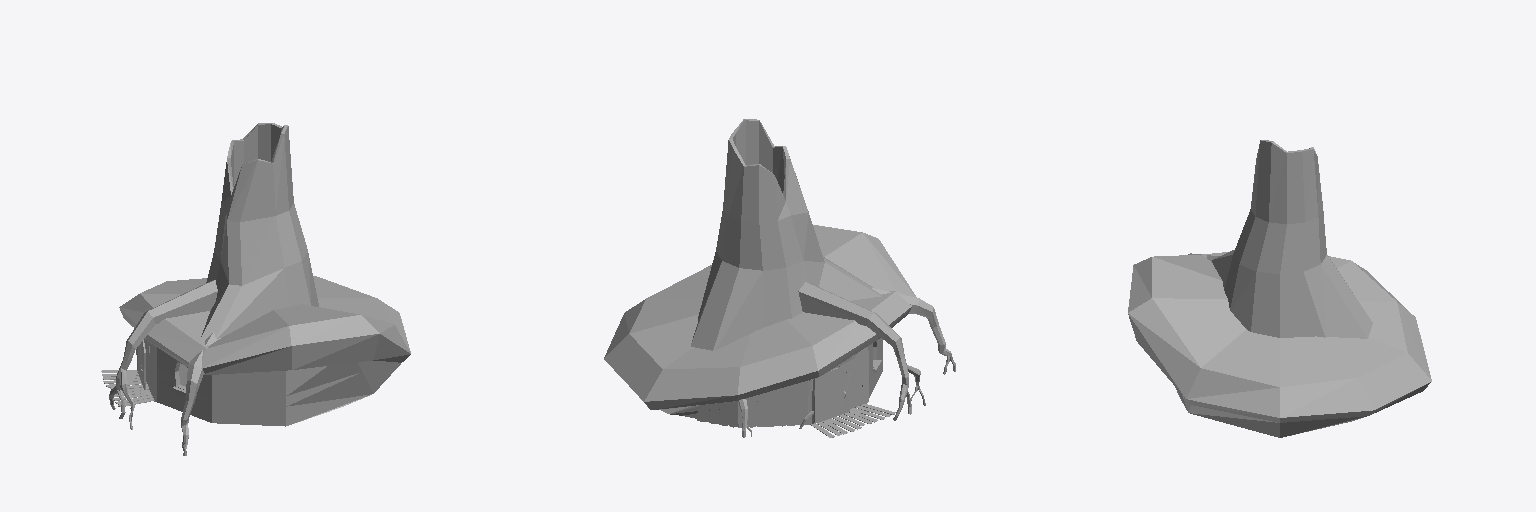
File: T4T8E7TXVK20DN5I3E2AKBJ8W.obj
3 views of the same model, side by side, from view 1: azimuth 30°, elevation 25°; view 2: azimuth 150°, elevation 25°; view 3: azimuth 270°, elevation 25° (orthographic).
Parts seen in each view (by area): view 1: Object_Home_combined.jpg, Object_Home_tree2.jpg, Object_Home_tree1.jpg; view 2: Object_Home_combined.jpg, Object_Home_tree2.jpg, Object_Home_planks.jpg, Object_Home_tree1.jpg, Object_Home_door.jpg; view 3: Object_Home_combined.jpg, Object_Home_tree2.jpg.
Part boxes in pixels (x1,y1,x2,y2): Object_Home_combined.jpg: (119,276,410,426); Object_Home_tree2.jpg: (101,123,318,406); Object_Home_tree1.jpg: (109,280,220,455); Object_Home_combined.jpg: (604,225,916,418); Object_Home_tree2.jpg: (691,119,895,437); Object_Home_planks.jpg: (697,347,868,427); Object_Home_tree1.jpg: (738,282,955,437); Object_Home_door.jpg: (814,368,849,423); Object_Home_combined.jpg: (1128,252,1431,437); Object_Home_tree2.jpg: (1212,140,1372,338).
Size of the model in its own units: 2.5 by 2.11 by 2.29.